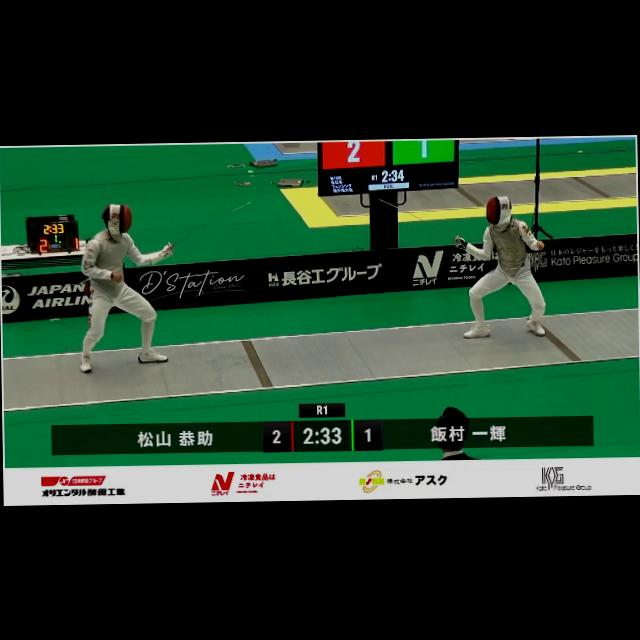blade: (371, 192, 472, 250), (157, 198, 255, 252)
